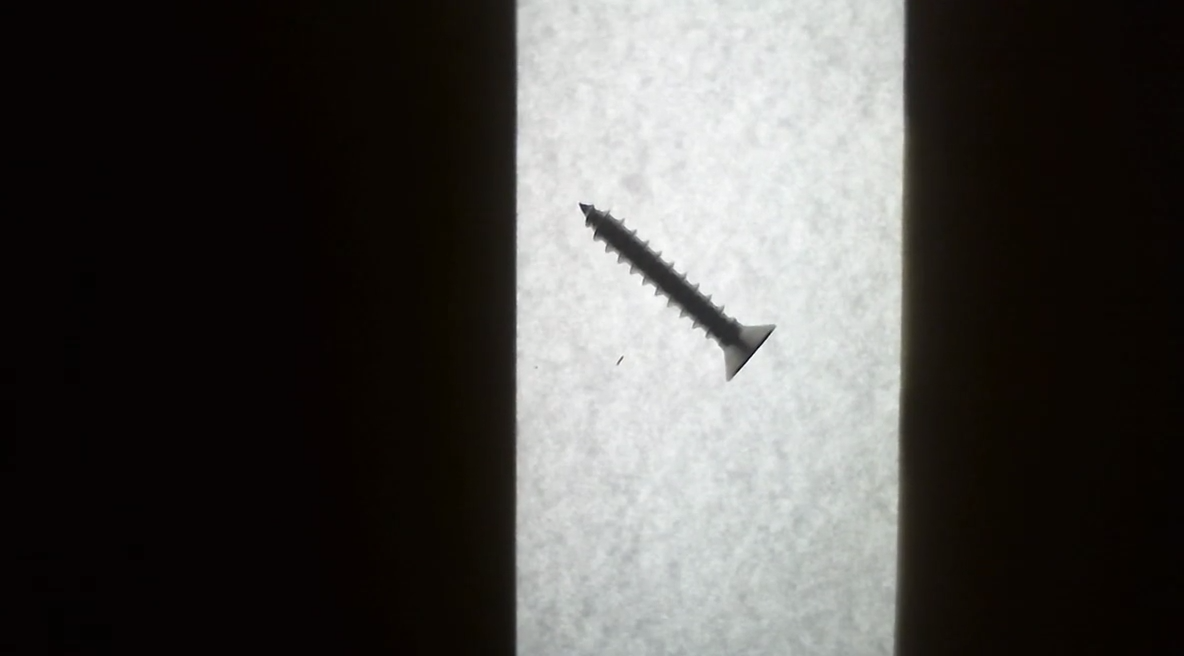S001: (564, 190, 797, 403)
